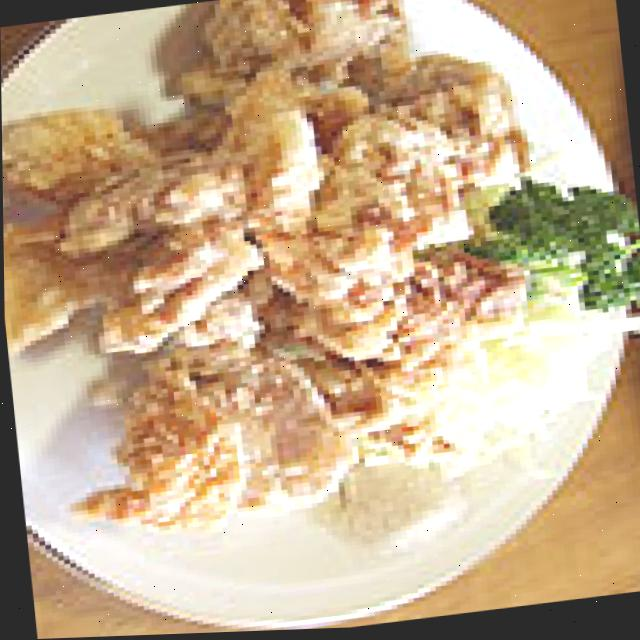鸡肉料理 含炸鸡: (0, 0, 626, 577)
